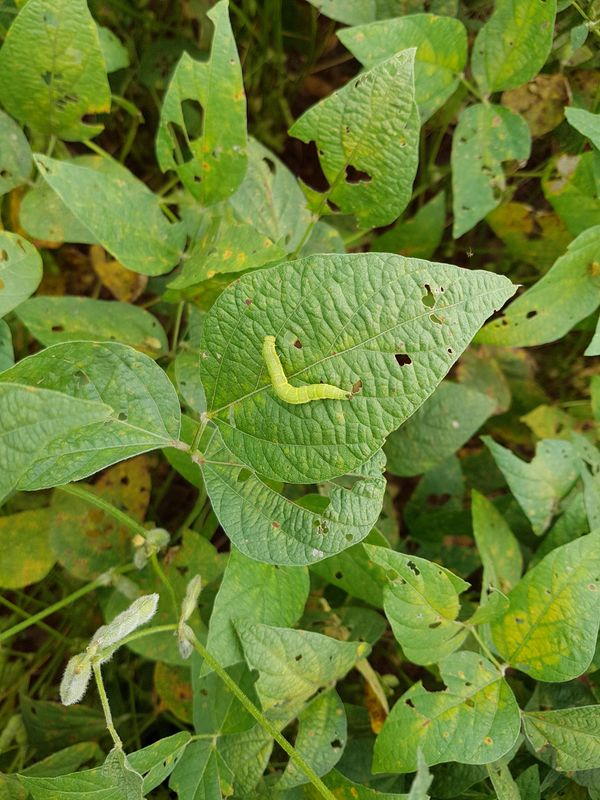Anticarsia_gemmatalis: (253, 330, 359, 409)
